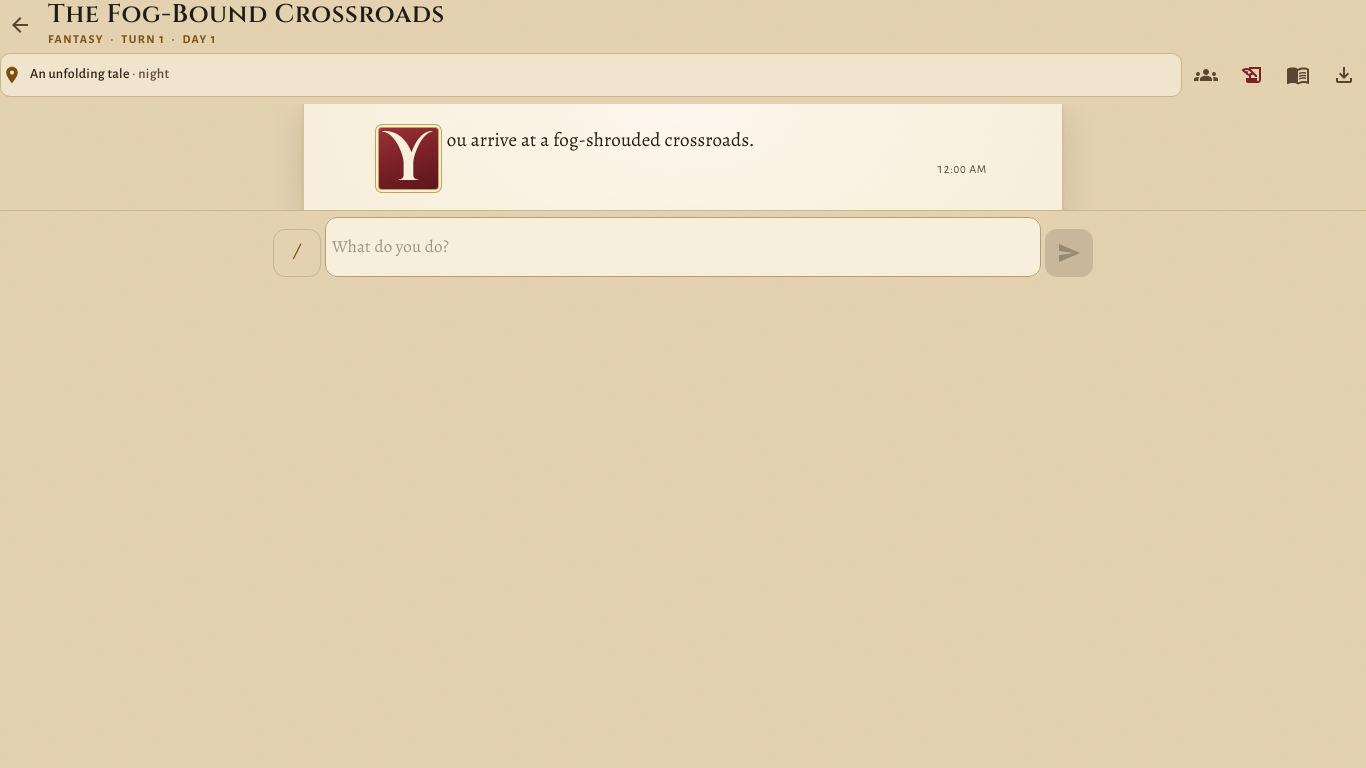
StoryPlay Bookify › hides the Share button when navigator.share does not exist
Expected: the text box with placeholder "What do you do?" is shown, [332,222,1034,272]
Click the button named "bookify": [1298, 75] box [1276,53,1320,97]
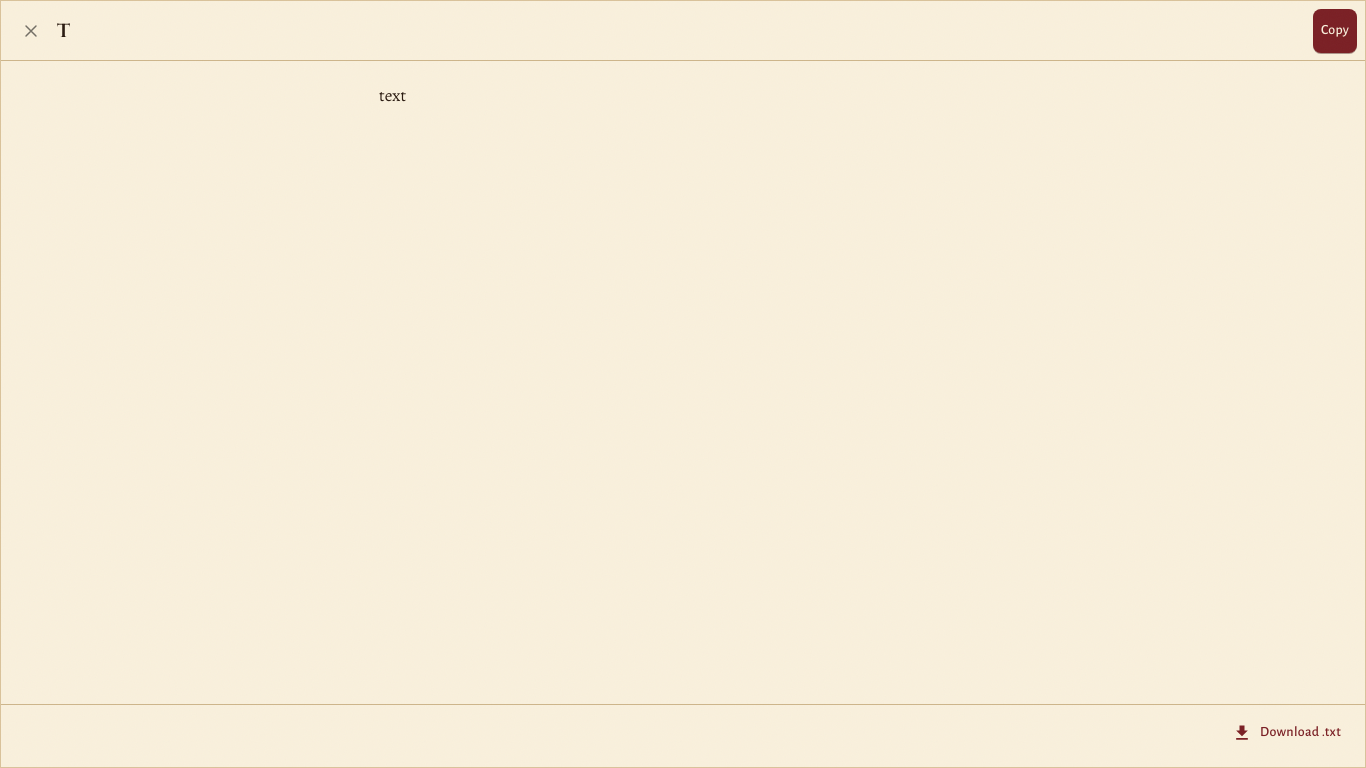
Result: the text "text" is shown at [379,84,406,107]
